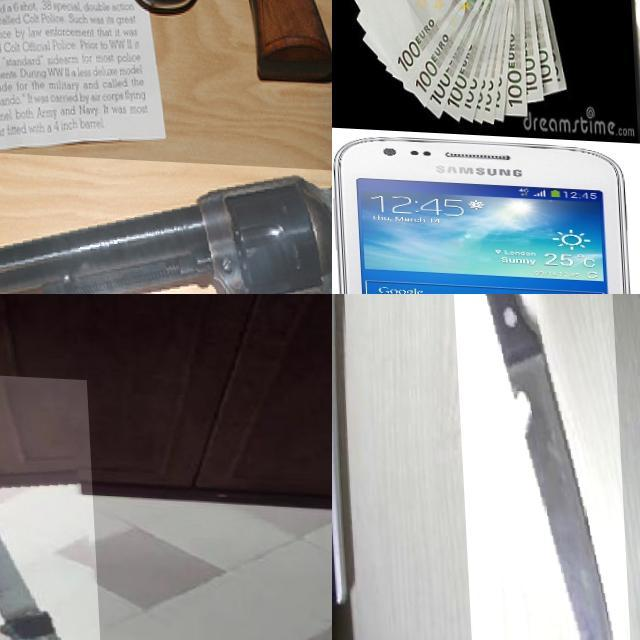-: (442, 294, 626, 640), (0, 367, 118, 640)
gun-knife-thesis - v11 Yolov5 augmented: (0, 148, 332, 294)
